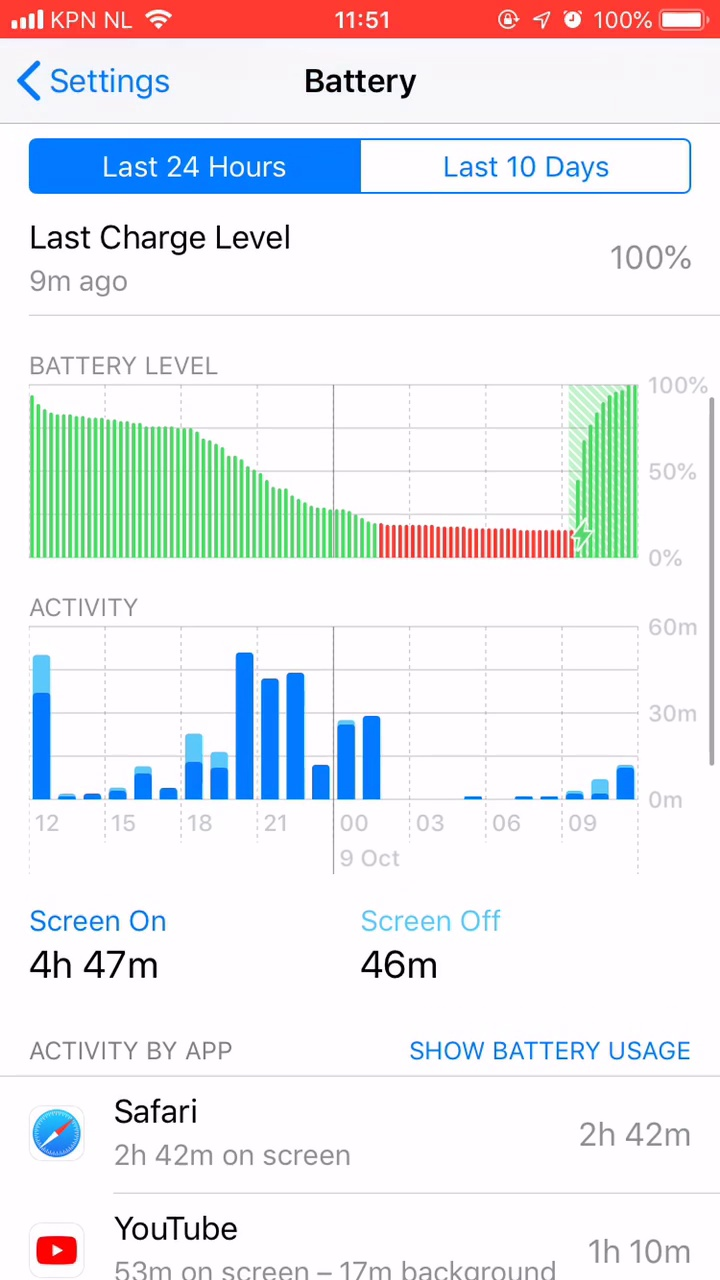app: (28, 1096, 705, 1173)
